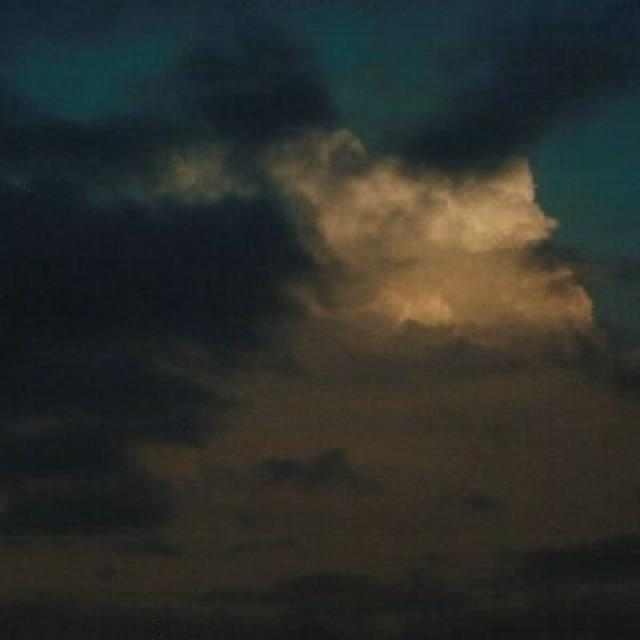St: (1, 23, 640, 559)
